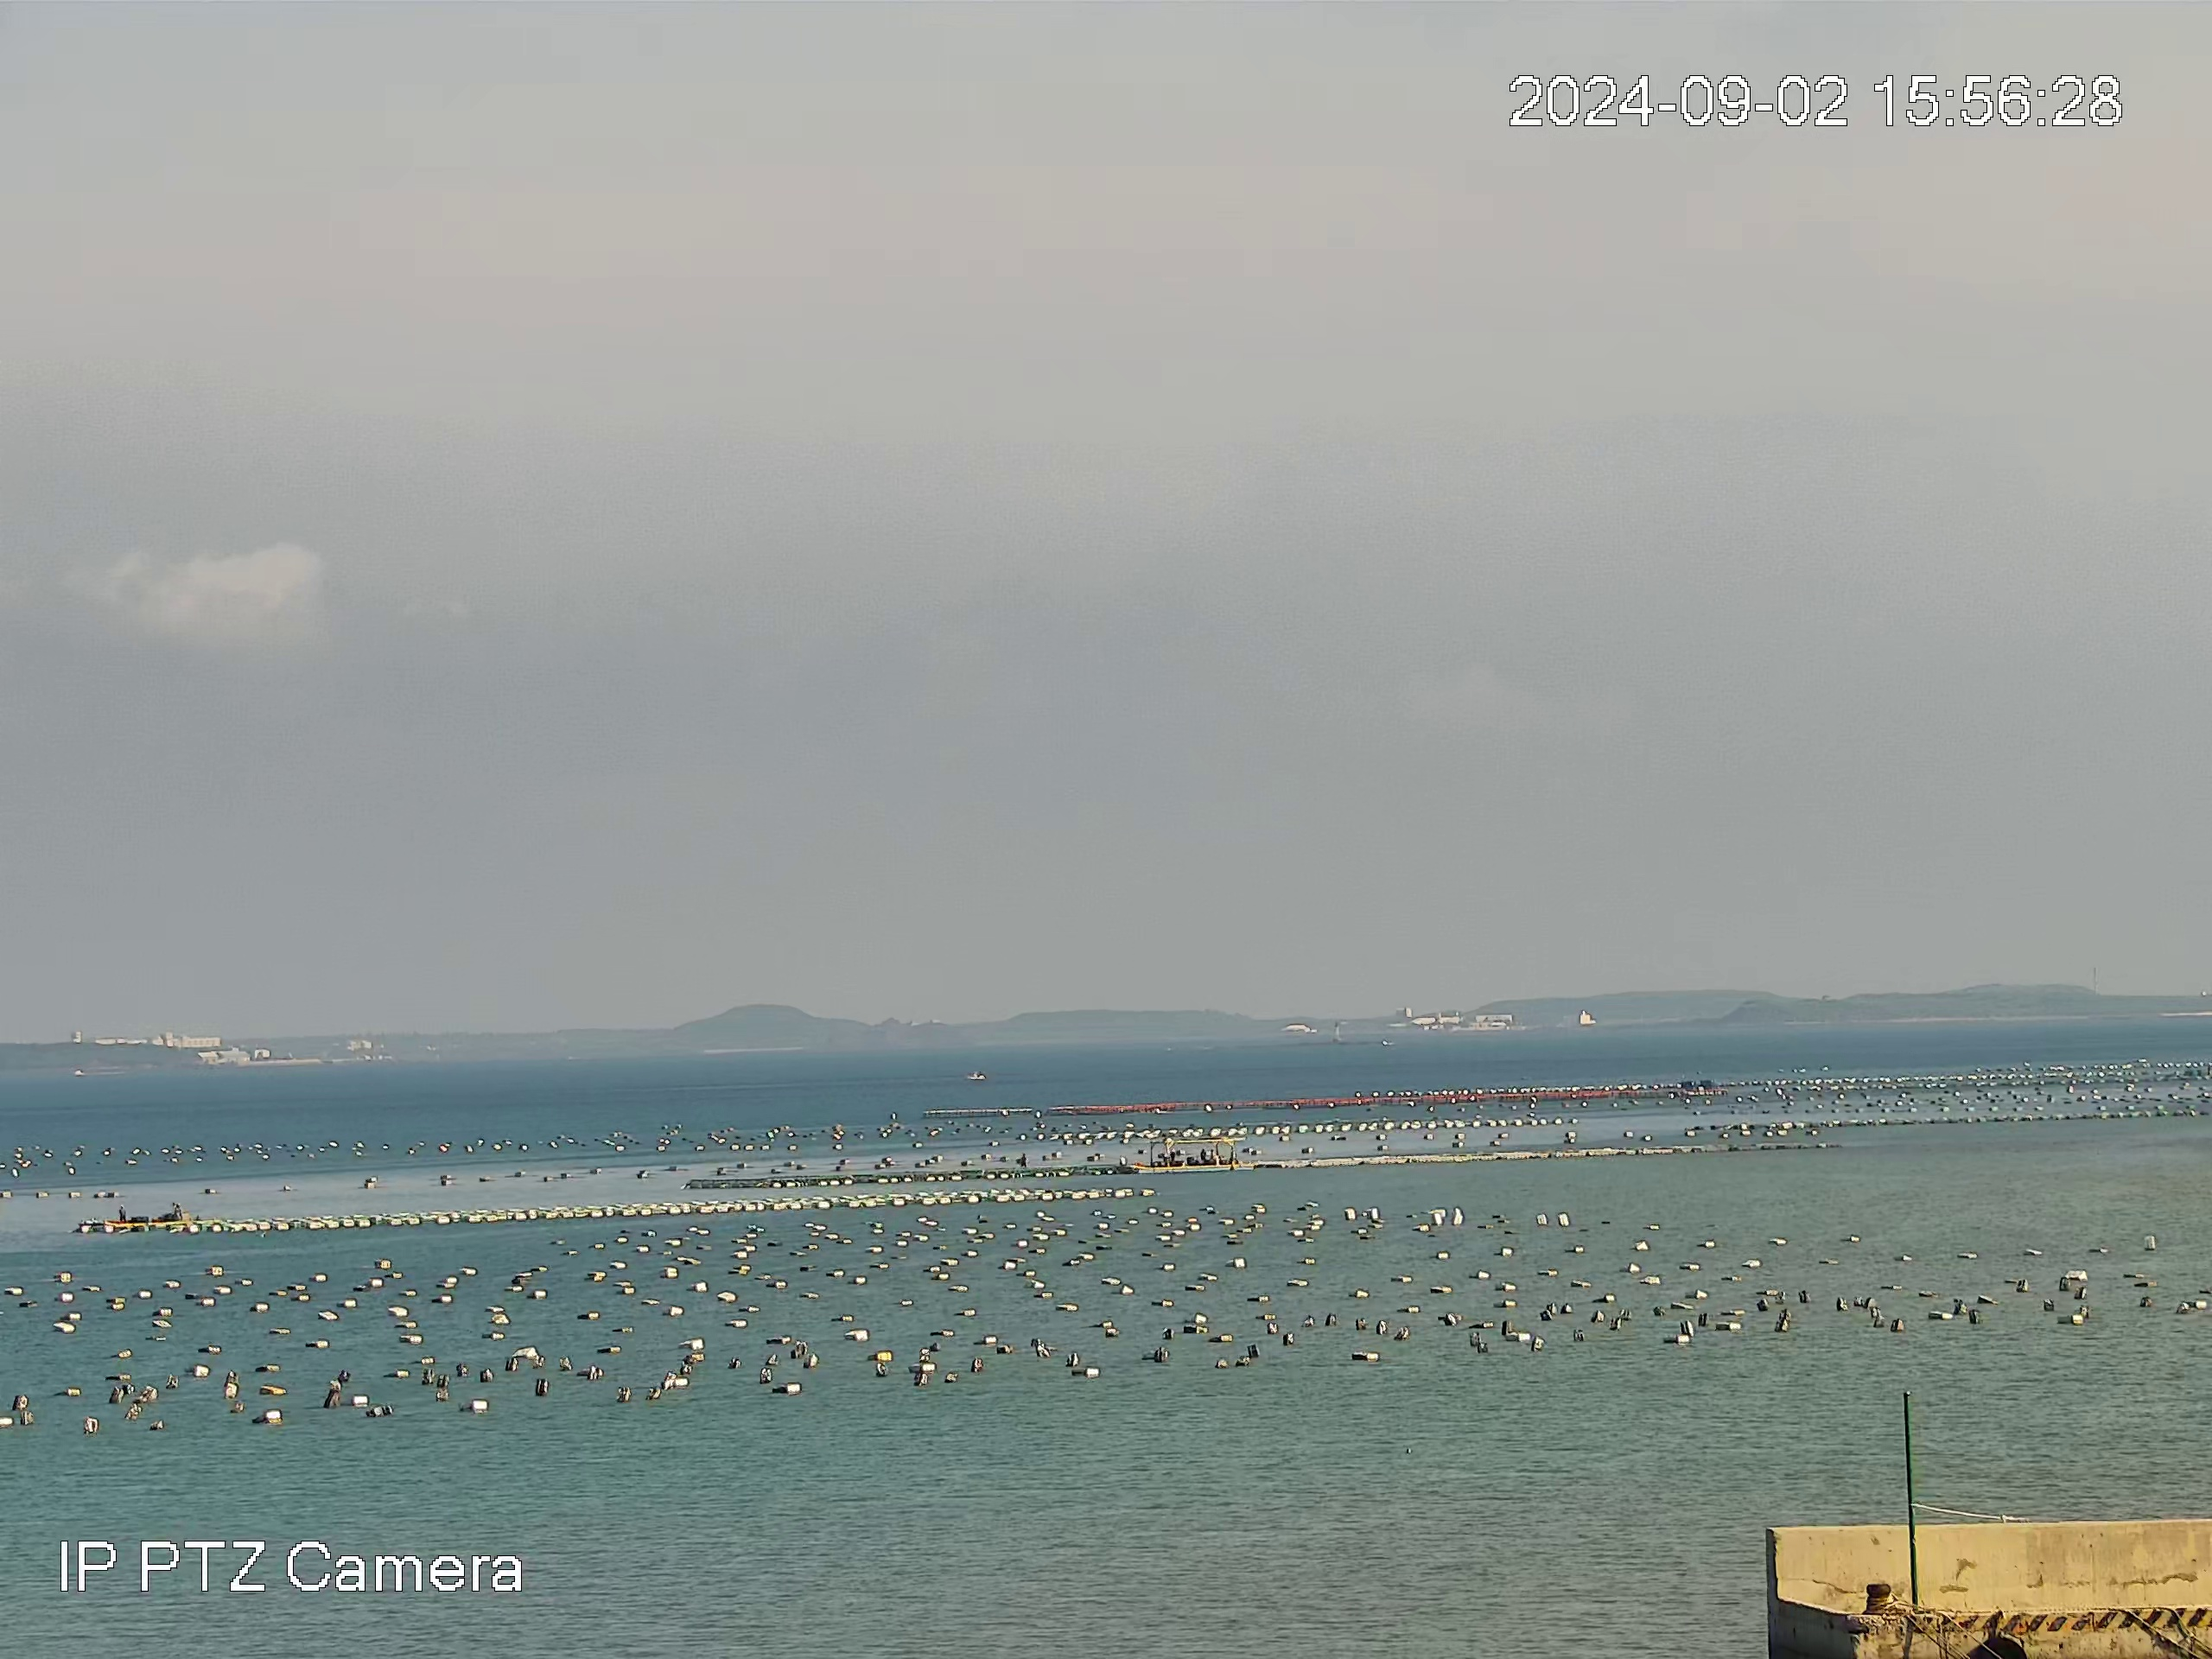boat: (1129, 1134, 1256, 1176), (103, 1201, 223, 1225), (965, 1070, 989, 1082)
